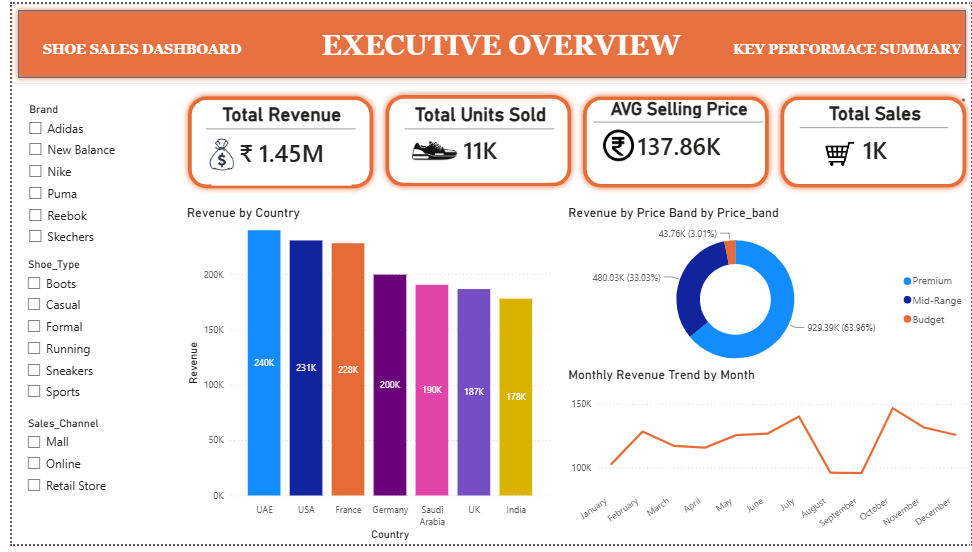

Layout of this report page (visuals, bound fields, positions):
{"tool":"powerbi","page":{"name":"Page 1","canvas":[1280,720],"ordinal":0},"visuals":[{"type":"shape","box":[0,0,1280,106.7],"z":0},{"type":"shape","box":[488.9,114,263.7,138],"z":0,"group":"g1"},{"type":"textbox","box":[357.5,27.5,587.5,72.5],"z":1000},{"type":"shape","box":[752.6,115.2,263.7,138],"z":1000,"group":"g1"},{"type":"textbox","box":[21.8,44.5,303.6,31.8],"z":2000},{"type":"shape","box":[1016.3,115.2,263.7,138],"z":2000,"group":"g1"},{"type":"textbox","box":[946.4,44.5,333.6,31.8],"z":3000},{"type":"cardVisual","title":"AVG Selling Price","fields":{"Data":["Sum(sql_project shoes_sales_dataset.Price_USD)"]},"box":[773.6,126.2,226.3,113],"z":3000,"group":"g1"},{"type":"group","id":"g1","title":"Group 1","box":[226,114,1054,140],"z":4000},{"type":"cardVisual","title":"Total Units Sold","fields":{"Data":["Sum(sql_project shoes_sales_dataset.Units_Sold)"]},"box":[523.5,133.8,199.9,109.7],"z":4000,"group":"g1"},{"type":"cardVisual","title":"Total Sales","fields":{"Data":["Count(sql_project shoes_sales_dataset.Sale_ID)"]},"box":[1049.7,132.1,198.1,111.1],"z":5000,"group":"g1"},{"type":"image","box":[474.3,162.9,177.1,54.3],"z":5000},{"type":"shape","box":[226,115.4,262.9,138.6],"z":6000,"group":"g1"},{"type":"donutChart","fields":{"Category":["sql_project shoes_sales_dataset.Price_band"],"Y":["Sum(sql_project shoes_sales_dataset.Revenue_USD)"]},"box":[736,268,544,232],"z":6000},{"type":"cardVisual","title":"Total Revenue","fields":{"Data":["Sum(sql_project shoes_sales_dataset.Revenue_USD)"]},"box":[257.9,133.5,199.9,113.7],"z":7000,"group":"g1"},{"type":"lineChart","fields":{"Category":["sql_project shoes_sales_dataset.Date.Variation.Date Hierarchy.Month"],"Y":["Sum(sql_project shoes_sales_dataset.Revenue_USD)"]},"box":[737.1,482.9,542.9,237.1],"z":7000},{"type":"columnChart","title":"Revenue by Country","fields":{"Y":["Sum(sql_project shoes_sales_dataset.Revenue_USD)"],"Category":["sql_project shoes_sales_dataset.Country"],"Series":["sql_project shoes_sales_dataset.Country"]},"box":[228,268,494,452],"z":8000},{"type":"slicer","fields":{"Values":["sql_project shoes_sales_dataset.Brand"]},"box":[10,127.1,195.7,212.9],"z":9000},{"type":"slicer","fields":{"Values":["sql_project shoes_sales_dataset.Shoe_Type"]},"box":[8.6,332.9,155.7,212.9],"z":10000},{"type":"slicer","fields":{"Values":["sql_project shoes_sales_dataset.Sales_Channel"]},"box":[8.6,545.7,138.6,141.4],"z":11000},{"type":"image","box":[1074.4,164.4,52.2,70],"z":12000},{"type":"image","box":[238.8,175,77.5,48.8],"z":13000},{"type":"image","box":[782.7,152.7,48.2,66.4],"z":14000}]}

Visuals, with their boxes in screenshot pixels (x1, y1, x2, y2), scaled from the page's 1280x720 canvas onto the 972x552 screenshot:
shape: rect(0, 0, 971, 82)
shape: rect(371, 87, 572, 193)
textbox: rect(271, 21, 718, 77)
shape: rect(572, 88, 772, 194)
textbox: rect(17, 34, 247, 58)
shape: rect(772, 88, 971, 194)
textbox: rect(719, 34, 971, 58)
"AVG Selling Price" cardVisual: rect(587, 97, 759, 183)
"Group 1" group: rect(172, 87, 971, 195)
"Total Units Sold" cardVisual: rect(398, 103, 549, 187)
"Total Sales" cardVisual: rect(797, 101, 948, 186)
image: rect(360, 125, 495, 167)
shape: rect(172, 88, 371, 195)
donutChart - sql_project shoes_sales_dataset.Price_band x Sum(sql_project shoes_sales_dataset.Revenue_USD): rect(559, 205, 971, 383)
"Total Revenue" cardVisual: rect(196, 102, 348, 190)
lineChart - sql_project shoes_sales_dataset.Date.Variation.Date Hierarchy.Month x Sum(sql_project shoes_sales_dataset.Revenue_USD): rect(560, 370, 971, 551)
"Revenue by Country" columnChart: rect(173, 205, 548, 551)
slicer - sql_project shoes_sales_dataset.Brand: rect(8, 97, 156, 261)
slicer - sql_project shoes_sales_dataset.Shoe_Type: rect(7, 255, 125, 418)
slicer - sql_project shoes_sales_dataset.Sales_Channel: rect(7, 418, 112, 527)
image: rect(816, 126, 856, 180)
image: rect(181, 134, 240, 172)
image: rect(594, 117, 631, 168)
